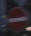No entry: (6, 6, 26, 31)
